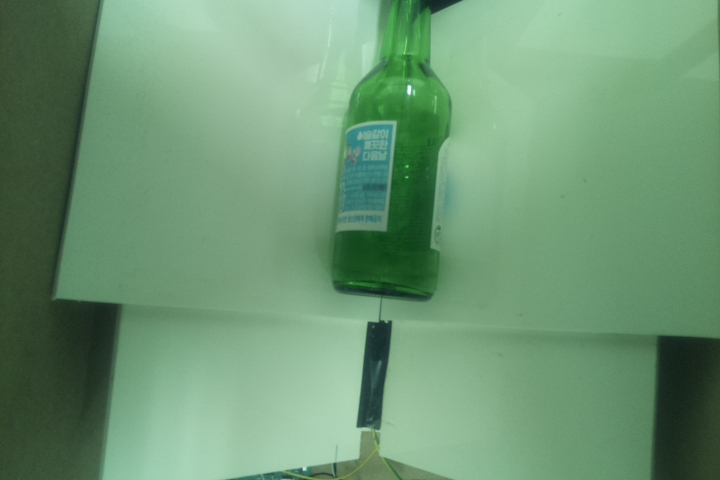soju: (329, 1, 453, 305)
